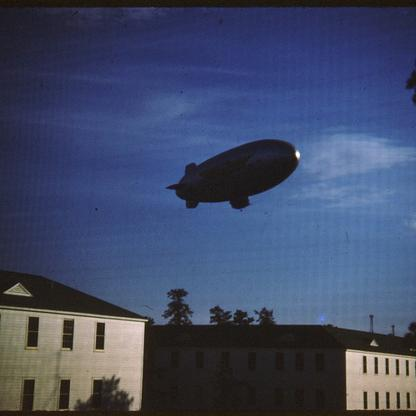Airship: (163, 138, 303, 214)
